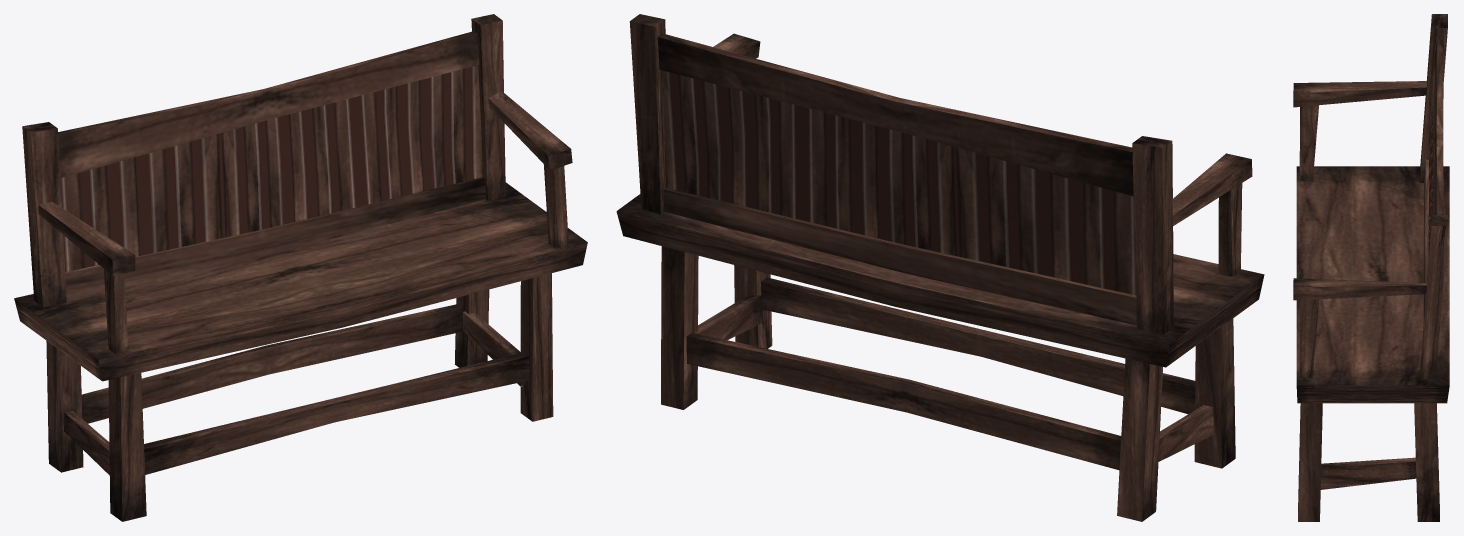
Rendered from bench_bank.fbx.
The picture shows the model from 3 angles, left to right: view 1: azimuth 30°, elevation 25°; view 2: azimuth 150°, elevation 25°; view 3: azimuth 270°, elevation 25°; orthographic projection. The views are drawn at different scales.
Visible parts, largest first — view 1: BankBench_seat, BankBench_back, BankBench_backtop, BankBench_legsupport2, BankBench_backbot, BankBench_legsupport1, BankBench_side2, BankBench_leg3, BankBench_leg1, BankBench_side1, BankBench_leg4, BankBench_arm2 (+6 smaller); view 2: BankBench_back, BankBench_seat, BankBench_backtop, BankBench_legsupport1, BankBench_backbot, BankBench_legsupport2, BankBench_side2, BankBench_leg4, BankBench_side1, BankBench_leg2, BankBench_leg3, BankBench_arm2 (+4 smaller); view 3: BankBench_seat, BankBench_side1, BankBench_leg2, BankBench_leg1, BankBench_arm2, BankBench_legsupport4, BankBench_arm1, BankBench_backtop, BankBench_side2, BankBench_arm1support, BankBench_arm1support2, BankBench_backbot (+1 smaller).
Boxes of the visible parts, x1,y1,x2,y2 form: BankBench_seat: (14, 182, 587, 381); BankBench_back: (60, 65, 483, 271); BankBench_backtop: (58, 31, 479, 177); BankBench_legsupport2: (144, 352, 529, 474); BankBench_backbot: (65, 177, 485, 299); BankBench_legsupport1: (81, 304, 462, 423); BankBench_side2: (22, 122, 66, 307); BankBench_leg3: (108, 373, 146, 521); BankBench_leg1: (520, 273, 553, 421); BankBench_side1: (471, 14, 505, 200); BankBench_leg4: (46, 341, 83, 472); BankBench_arm2: (38, 202, 135, 275); BankBench_back: (662, 70, 1135, 295); BankBench_seat: (616, 194, 1264, 367); BankBench_backtop: (657, 33, 1133, 196); BankBench_legsupport1: (686, 332, 1121, 469); BankBench_backbot: (663, 188, 1136, 325); BankBench_legsupport2: (761, 277, 1195, 414); BankBench_side2: (1132, 136, 1173, 334); BankBench_leg4: (1117, 358, 1162, 521); BankBench_side1: (629, 14, 665, 214); BankBench_leg2: (661, 246, 698, 409); BankBench_leg3: (1194, 318, 1235, 468); BankBench_arm2: (1173, 153, 1252, 225); BankBench_seat: (1296, 166, 1449, 403); BankBench_side1: (1419, 215, 1447, 379); BankBench_leg2: (1414, 403, 1439, 521); BankBench_leg1: (1298, 403, 1322, 521); BankBench_arm2: (1293, 81, 1426, 107); BankBench_legsupport4: (1320, 457, 1416, 489); BankBench_arm1: (1293, 278, 1426, 300); BankBench_backtop: (1432, 36, 1443, 215); BankBench_side2: (1420, 14, 1447, 182); BankBench_arm1support: (1299, 299, 1319, 377); BankBench_arm1support2: (1299, 105, 1318, 180); BankBench_backbot: (1423, 159, 1428, 321).
Bounding box in the file's own units: 462 × 306 × 141.
2 materials, 2 textured.
